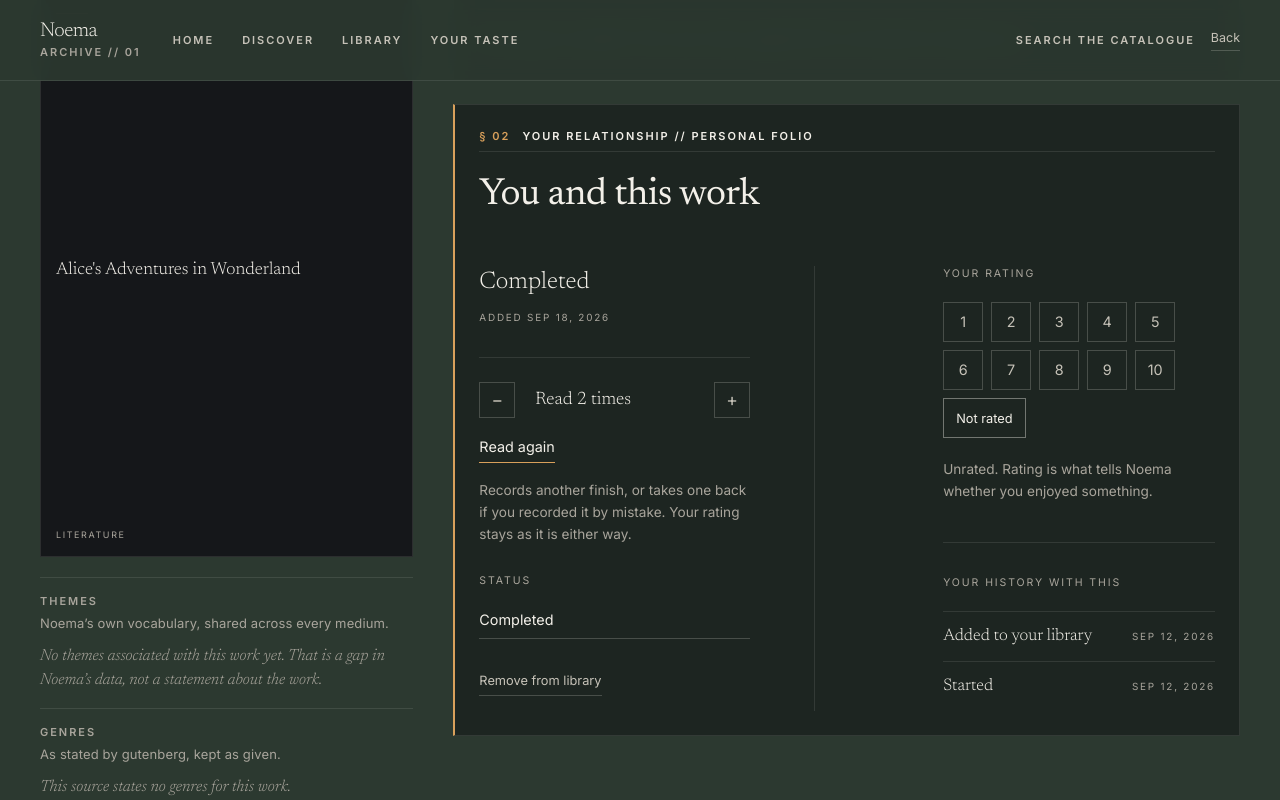
Test: WorkPage › counts up and back down again
(page scrolled)
Click the button named "Record another read".
click(732, 400)  # box [714,382,750,418]
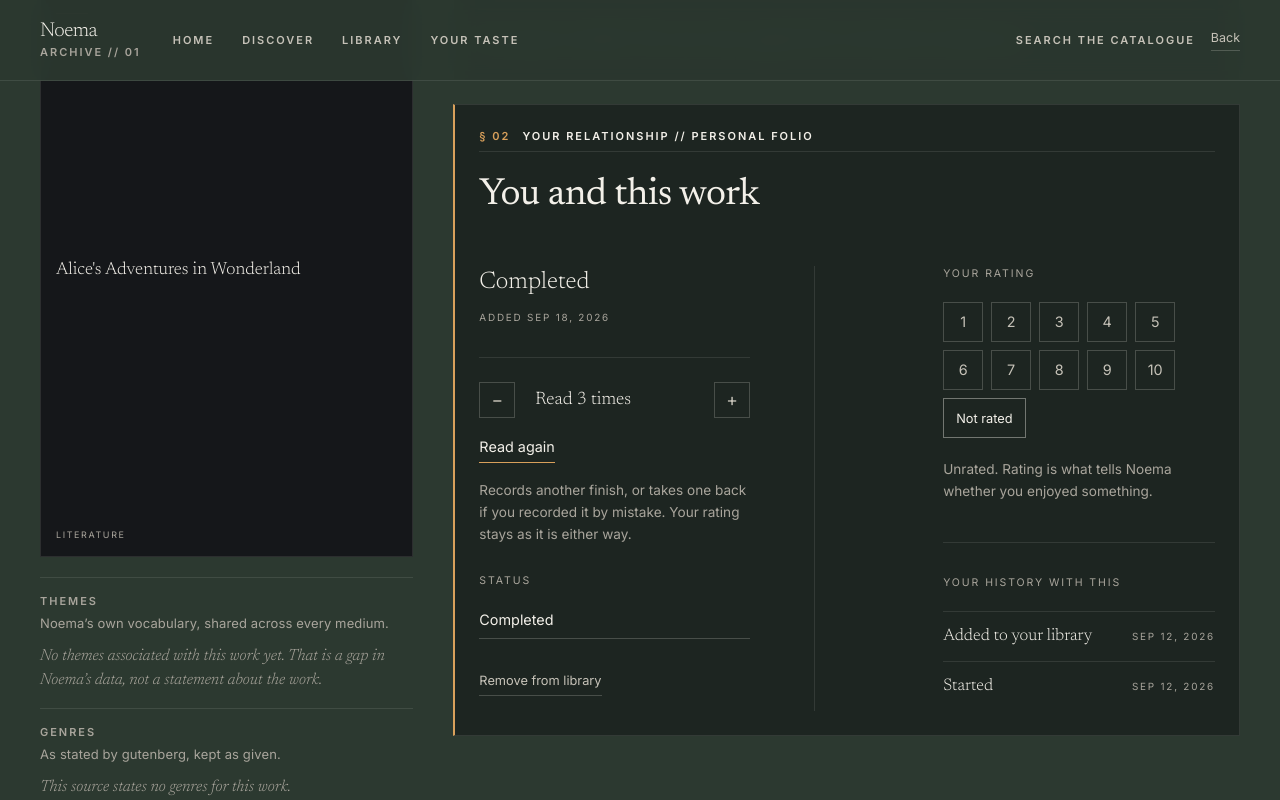
Expected: the text "Read 3 times" is shown, [535,391,631,409]
Click the button named "Remove one recorded read".
click(497, 400)  # box [479,382,515,418]
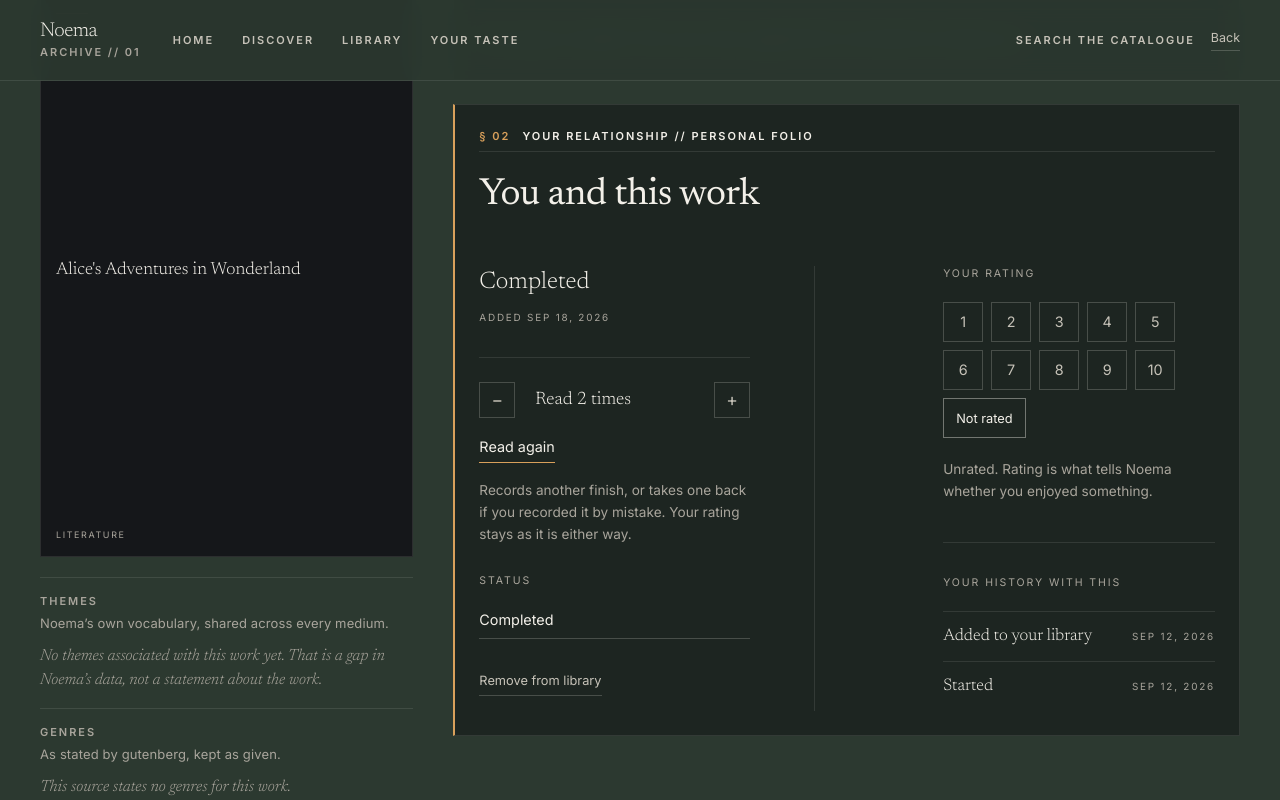
Expected: the text "Read 2 times" is shown, [535,391,631,409]
